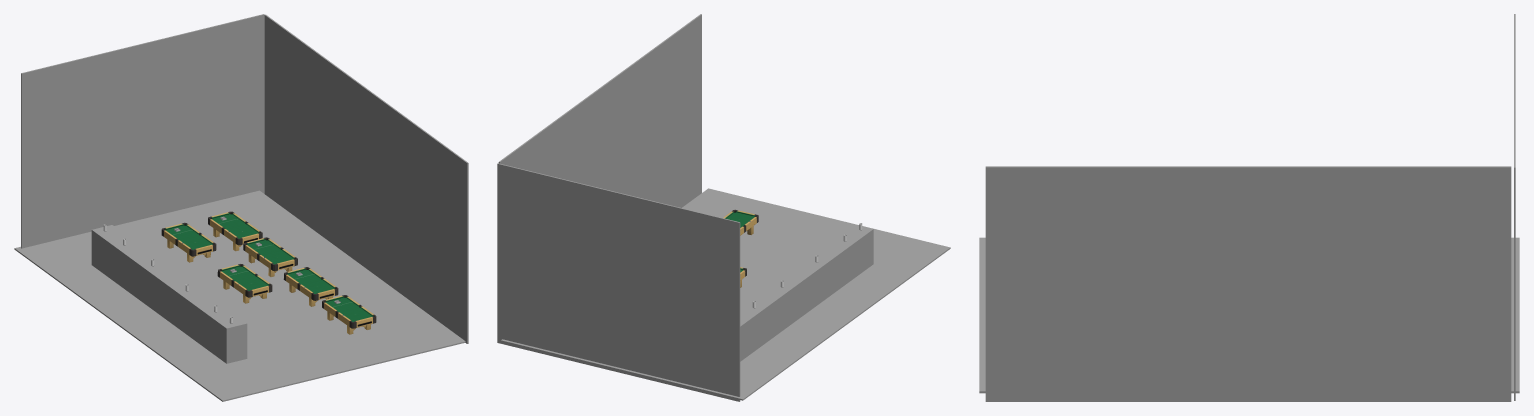
File: BillardRoom.fbx
3 renders of one model, left to right at view 1: azimuth 30°, elevation 25°; view 2: azimuth 150°, elevation 25°; view 3: azimuth 270°, elevation 25°, orthographic. The views are drawn at different scales.
Parts seen in each view (by area): view 1: pCube10, pCube11, pCube9, pCube14, polySurface107, polySurface84, polySurface113, polySurface119, polySurface116, polySurface110; view 2: pCube10, pCube11, pCube9, pCube14, polySurface119; view 3: pCube11, pCube9, pCube10.
Boxes of the visible parts, bbox=[...] form: pCube10: bbox=[21, 14, 264, 248]; pCube11: bbox=[264, 14, 468, 343]; pCube9: bbox=[14, 190, 465, 401]; pCube14: bbox=[91, 225, 247, 363]; polySurface107: bbox=[161, 222, 216, 262]; polySurface84: bbox=[217, 264, 272, 303]; polySurface113: bbox=[243, 237, 297, 276]; polySurface119: bbox=[322, 295, 376, 334]; polySurface116: bbox=[283, 267, 338, 306]; polySurface110: bbox=[208, 211, 262, 251]; pCube10: bbox=[497, 163, 740, 401]; pCube11: bbox=[498, 14, 701, 207]; pCube9: bbox=[501, 188, 950, 400]; pCube14: bbox=[740, 224, 873, 361]; polySurface119: bbox=[723, 209, 758, 235]; pCube11: bbox=[985, 166, 1511, 401]; pCube9: bbox=[979, 237, 1519, 393]; pCube10: bbox=[1514, 14, 1515, 400].
Size of the model in its own units: 332 by 231 by 482.
